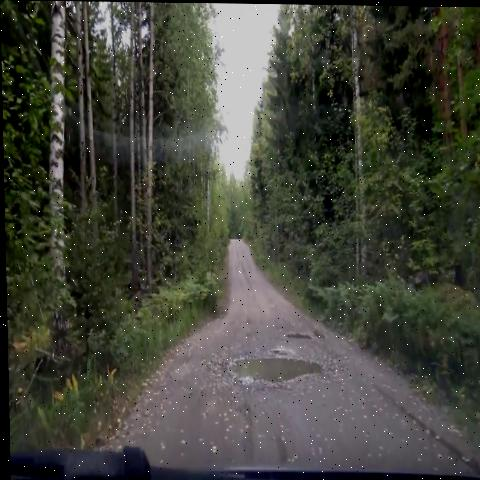pothole: (218, 343, 327, 394), (277, 320, 309, 346), (308, 320, 331, 348)
